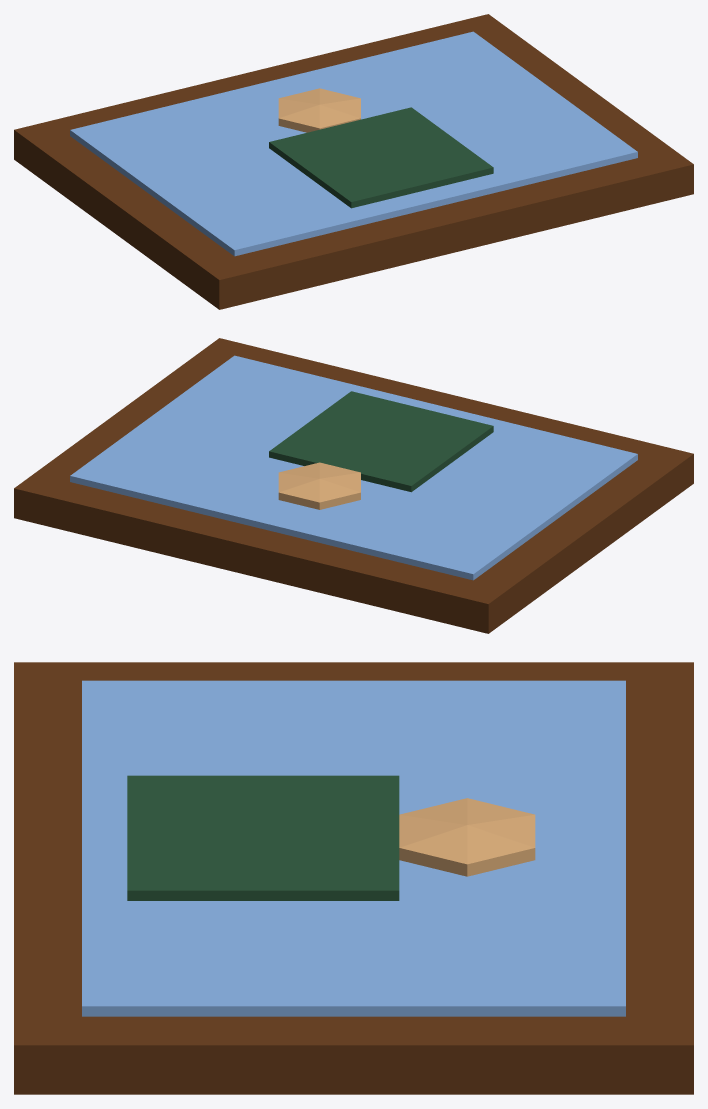
The model's file is comisario_photo.glb.
3 renders of one model, top to bottom at view 1: azimuth 30°, elevation 25°; view 2: azimuth 150°, elevation 25°; view 3: azimuth 270°, elevation 25°, orthographic. The views are drawn at different scales.
Parts seen in each view (by area): view 1: print_photo_blue, frame_frame_wood, chair_armchair_leather, head_skin_trigo; view 2: print_photo_blue, frame_frame_wood, chair_armchair_leather, head_skin_trigo; view 3: print_photo_blue, frame_frame_wood, chair_armchair_leather, head_skin_trigo.
Part boxes in pixels (bbox=[...]): print_photo_blue: bbox=[70, 31, 637, 256]; frame_frame_wood: bbox=[14, 14, 693, 309]; chair_armchair_leather: bbox=[269, 107, 493, 208]; head_skin_trigo: bbox=[278, 88, 360, 132]; print_photo_blue: bbox=[70, 355, 637, 580]; frame_frame_wood: bbox=[14, 338, 693, 633]; chair_armchair_leather: bbox=[269, 391, 493, 492]; head_skin_trigo: bbox=[278, 462, 360, 509]; print_photo_blue: bbox=[82, 680, 625, 1016]; frame_frame_wood: bbox=[14, 662, 693, 1094]; chair_armchair_leather: bbox=[127, 775, 399, 900]; head_skin_trigo: bbox=[399, 798, 535, 876].
Bounding box in the file's own units: 0.2 × 0.019 × 0.15.
